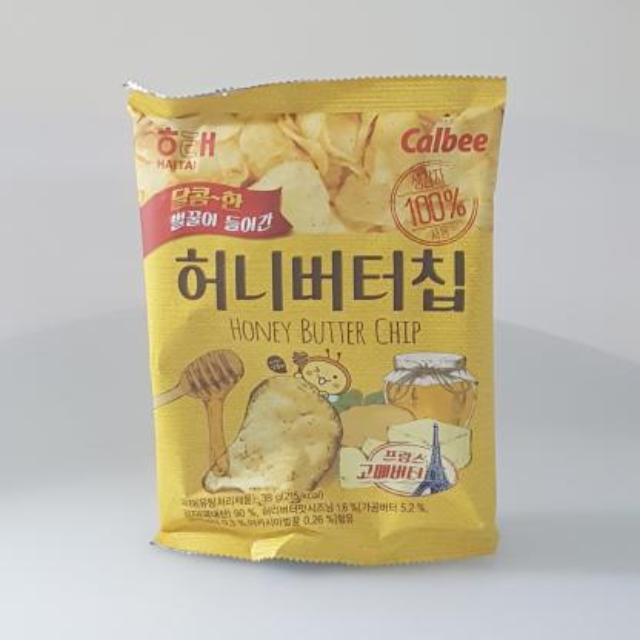snack_bag: (118, 61, 520, 576)
